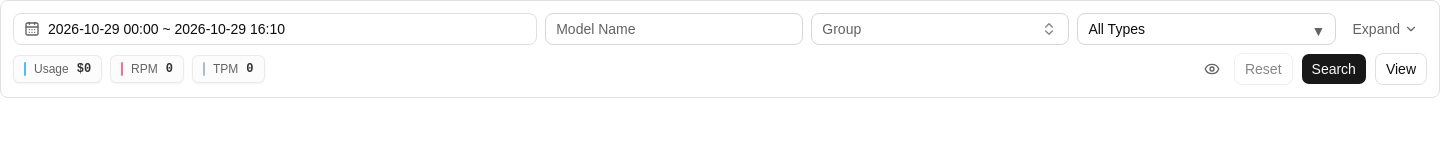
Test: loads all groups in the administrator view
The width and height of the screenshot is (1440, 160).
Click the dropdown labelled "Group": (940, 29) [811, 13, 1069, 45]
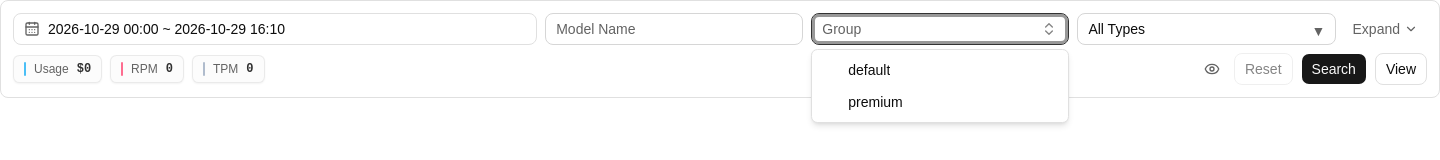
Expected: the option "premium" is shown, [848, 94, 903, 110]
